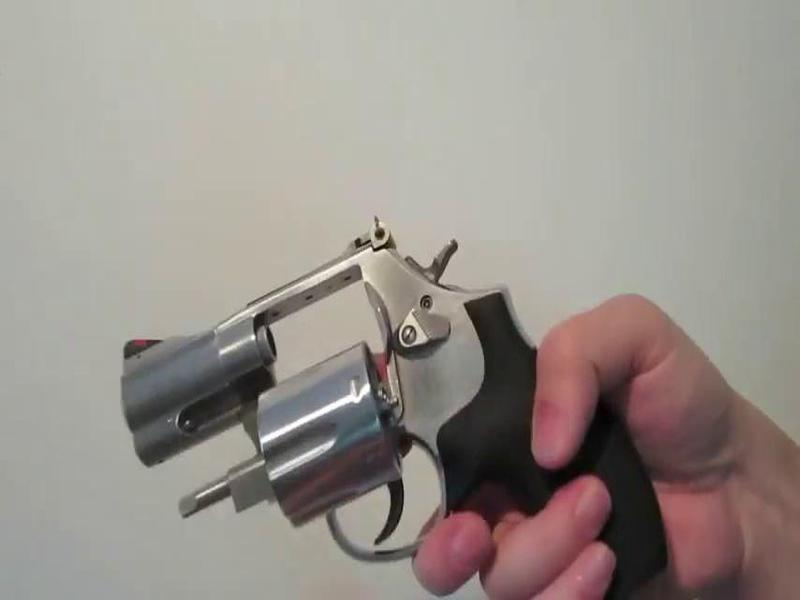Revolver: (95, 206, 629, 595)
